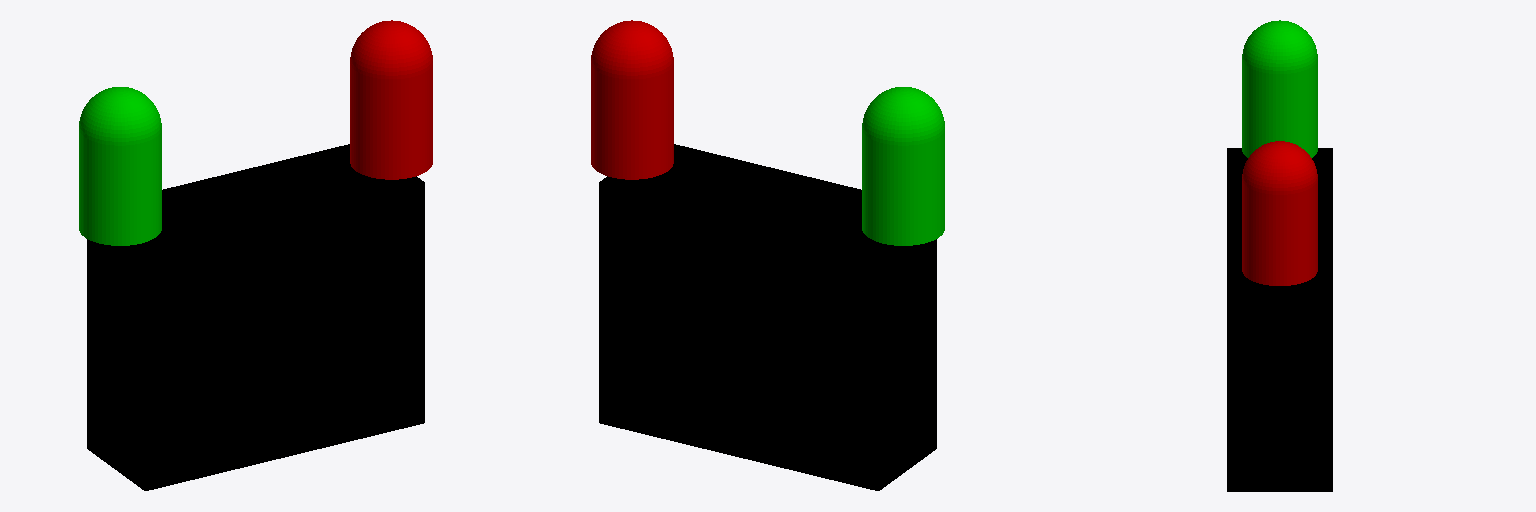
robot.urdf — hand:
<?xml version="1.0"?>
<robot name="hand">
  <material name="blue">
    <color rgba="0 0 0.8 1"/>
  </material>

  <material name="white">
    <color rgba="1 1 1 1"/>
  </material>

  <material name="red">
    <color rgba="0.8 0 0 1"/>
  </material>

  <material name="green">
    <color rgba="0 0.8 0 1"/>
  </material>

  <material name="grey">
    <color rgba="0 0 0 0.8"/>
  </material>

  <link name="base_link">
    <visual>
      <geometry>
        <box size="0.146 0.0527 0.12"/>
      </geometry>
      <origin rpy="0 0 0" xyz="0 0 0.06"/>
      <material name="grey"/>
    </visual>
    <collision>
      <geometry>
        <box size="0.1 0.02 0.02"/>
      </geometry>
      <origin rpy="0 0 0" xyz="0 0 0"/>
    </collision>
  </link>

  <link name="finger_1">
    <visual>
      <geometry>
        <mesh filename="meshes/visual/simplified_finger_mesh.stl"/>
      </geometry>
      <origin rpy="0 0 0" xyz="0 0 0"/>
      <material name="red"/>
    </visual>
    <collision>
      <geometry>
	 	<mesh filename="meshes/collision/simplified_finger_mesh.stl"/>
      </geometry>
      <origin rpy="0 0 0" xyz="0 0 0"/>
    </collision>
  </link>

  <link name="finger_2">
    <visual>
      <geometry>
        <mesh filename="meshes/visual/simplified_finger_mesh.stl"/>
      </geometry>
      <origin rpy="0 0 0" xyz="0 0 0"/>
      <material name="green"/>
    </visual>
    <collision>
      <geometry>
	 	<mesh filename="meshes/collision/simplified_finger_mesh.stl"/>
      </geometry>
      <origin rpy="0 0 0" xyz="0 0 0"/>
    </collision>
  </link>

  <joint name="base_to_finger_1" type="prismatic">
    <parent link="base_link"/>
    <child link="finger_1"/>
    <origin rpy="0 0 3.141592" xyz="0.07077 0 0.12"/>
    <limit effort="1000.0" lower="0" upper="0.06" velocity="0.5"/>
    <axis xyz="1 0 0"/>
  </joint>

  <joint name="base_to_finger_2" type="prismatic">
    <parent link="base_link"/>
    <child link="finger_2"/>
    <origin rpy="0 0 0" xyz="-0.07077 0 0.12"/>
    <limit effort="1000.0" lower="0" upper="0.06" velocity="0.5"/>
    <axis xyz="1 0 0"/>
  </joint>

</robot>

--- Facts derived from the render (not from the file) ---
3 views of the same robot in one strip: view 1: azimuth 30°, elevation 25°; view 2: azimuth 150°, elevation 25°; view 3: azimuth 270°, elevation 25° (orthographic).
Model hand with 3 links and 2 joints (2 prismatic), rooted at base_link, posed every joint at zero.
Links seen in each view (by area): view 1: base_link, finger_2, finger_1; view 2: base_link, finger_2, finger_1; view 3: base_link, finger_1, finger_2.
Boxes of the visible links, x1,y1,x2,y2 form: base_link: [87, 144, 424, 490]; finger_2: [79, 87, 161, 245]; finger_1: [350, 20, 432, 179]; base_link: [599, 144, 936, 490]; finger_2: [862, 87, 944, 245]; finger_1: [591, 20, 673, 179]; base_link: [1227, 148, 1332, 491]; finger_1: [1242, 141, 1317, 285]; finger_2: [1242, 20, 1317, 157].
Size in the robot's own frame: 0.179 by 0.0527 by 0.1887 metres.
Meshes: 1 distinct files referenced, 2 mesh visuals loaded (1 binary STL).